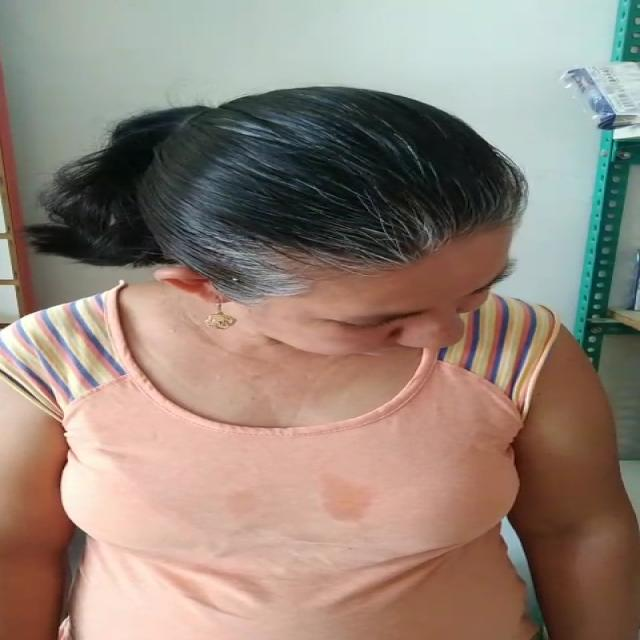9_cabeza_baja: (51, 86, 517, 359)
